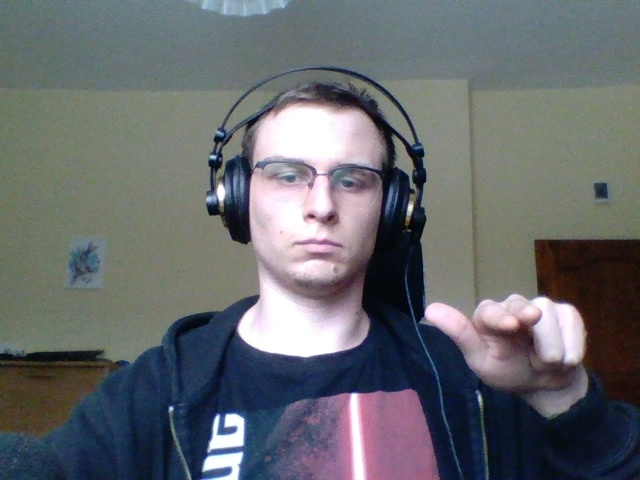no: (417, 268, 605, 396)
